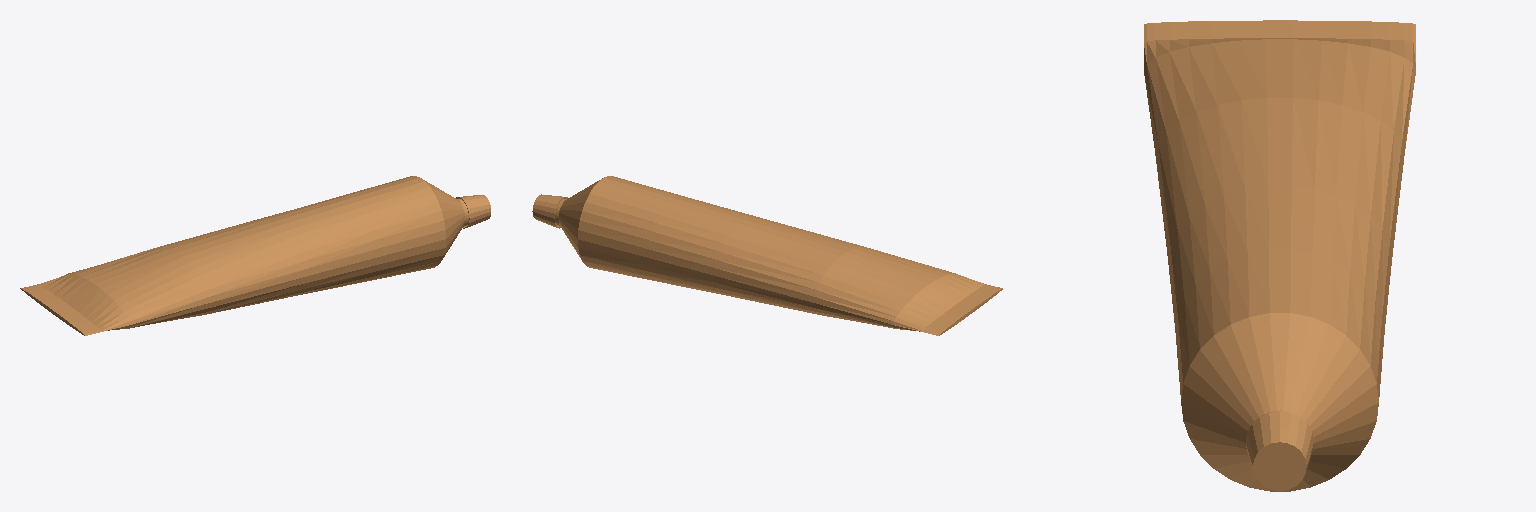
robot.urdf — Toothpaste:
<?xml version="1.0"?>
                <robot name="Toothpaste">
                <link name="base_link">
                    <visual>
                    <geometry>
                        <mesh filename="top_watertight_tiny.stl" scale="1.0 1.0 1.0"/>
                    </geometry>
                    <material name="object_material">
                        <color rgba="0.8 0.6 0.4 1.0"/>
                    </material>
                    </visual>
                    <collision>
                    <geometry>
                        <mesh filename="top_watertight_tiny.stl" scale="1.0 1.0 1.0"/>
                    </geometry>
                    </collision>
                    <inertial>
                    <mass value="1.0"/>
                    <inertia ixx="1.0" ixy="0.0" ixz="0.0" iyy="1.0" iyz="0.0" izz="1.0"/>
                    </inertial>
                </link>
                </robot>

--- What the picture shows (computed from the rendered views, not written in the file) ---
3 views of the same robot in one strip: view 1: azimuth 30°, elevation 25°; view 2: azimuth 150°, elevation 25°; view 3: azimuth 270°, elevation 25° (orthographic).
Model Toothpaste with 1 links and 0 joints (none), rooted at base_link, posed all joints at 0.
Visible links, largest first — view 1: base_link; view 2: base_link; view 3: base_link.
Link boxes in pixels (bbox=[...]): base_link: bbox=[20, 176, 490, 335]; base_link: bbox=[532, 176, 1002, 335]; base_link: bbox=[1144, 20, 1415, 491].
Size in the robot's own frame: 0.2022 by 0.0527 by 0.0381 metres.
1 mesh visuals loaded from 1 distinct referenced files (1 binary STL).